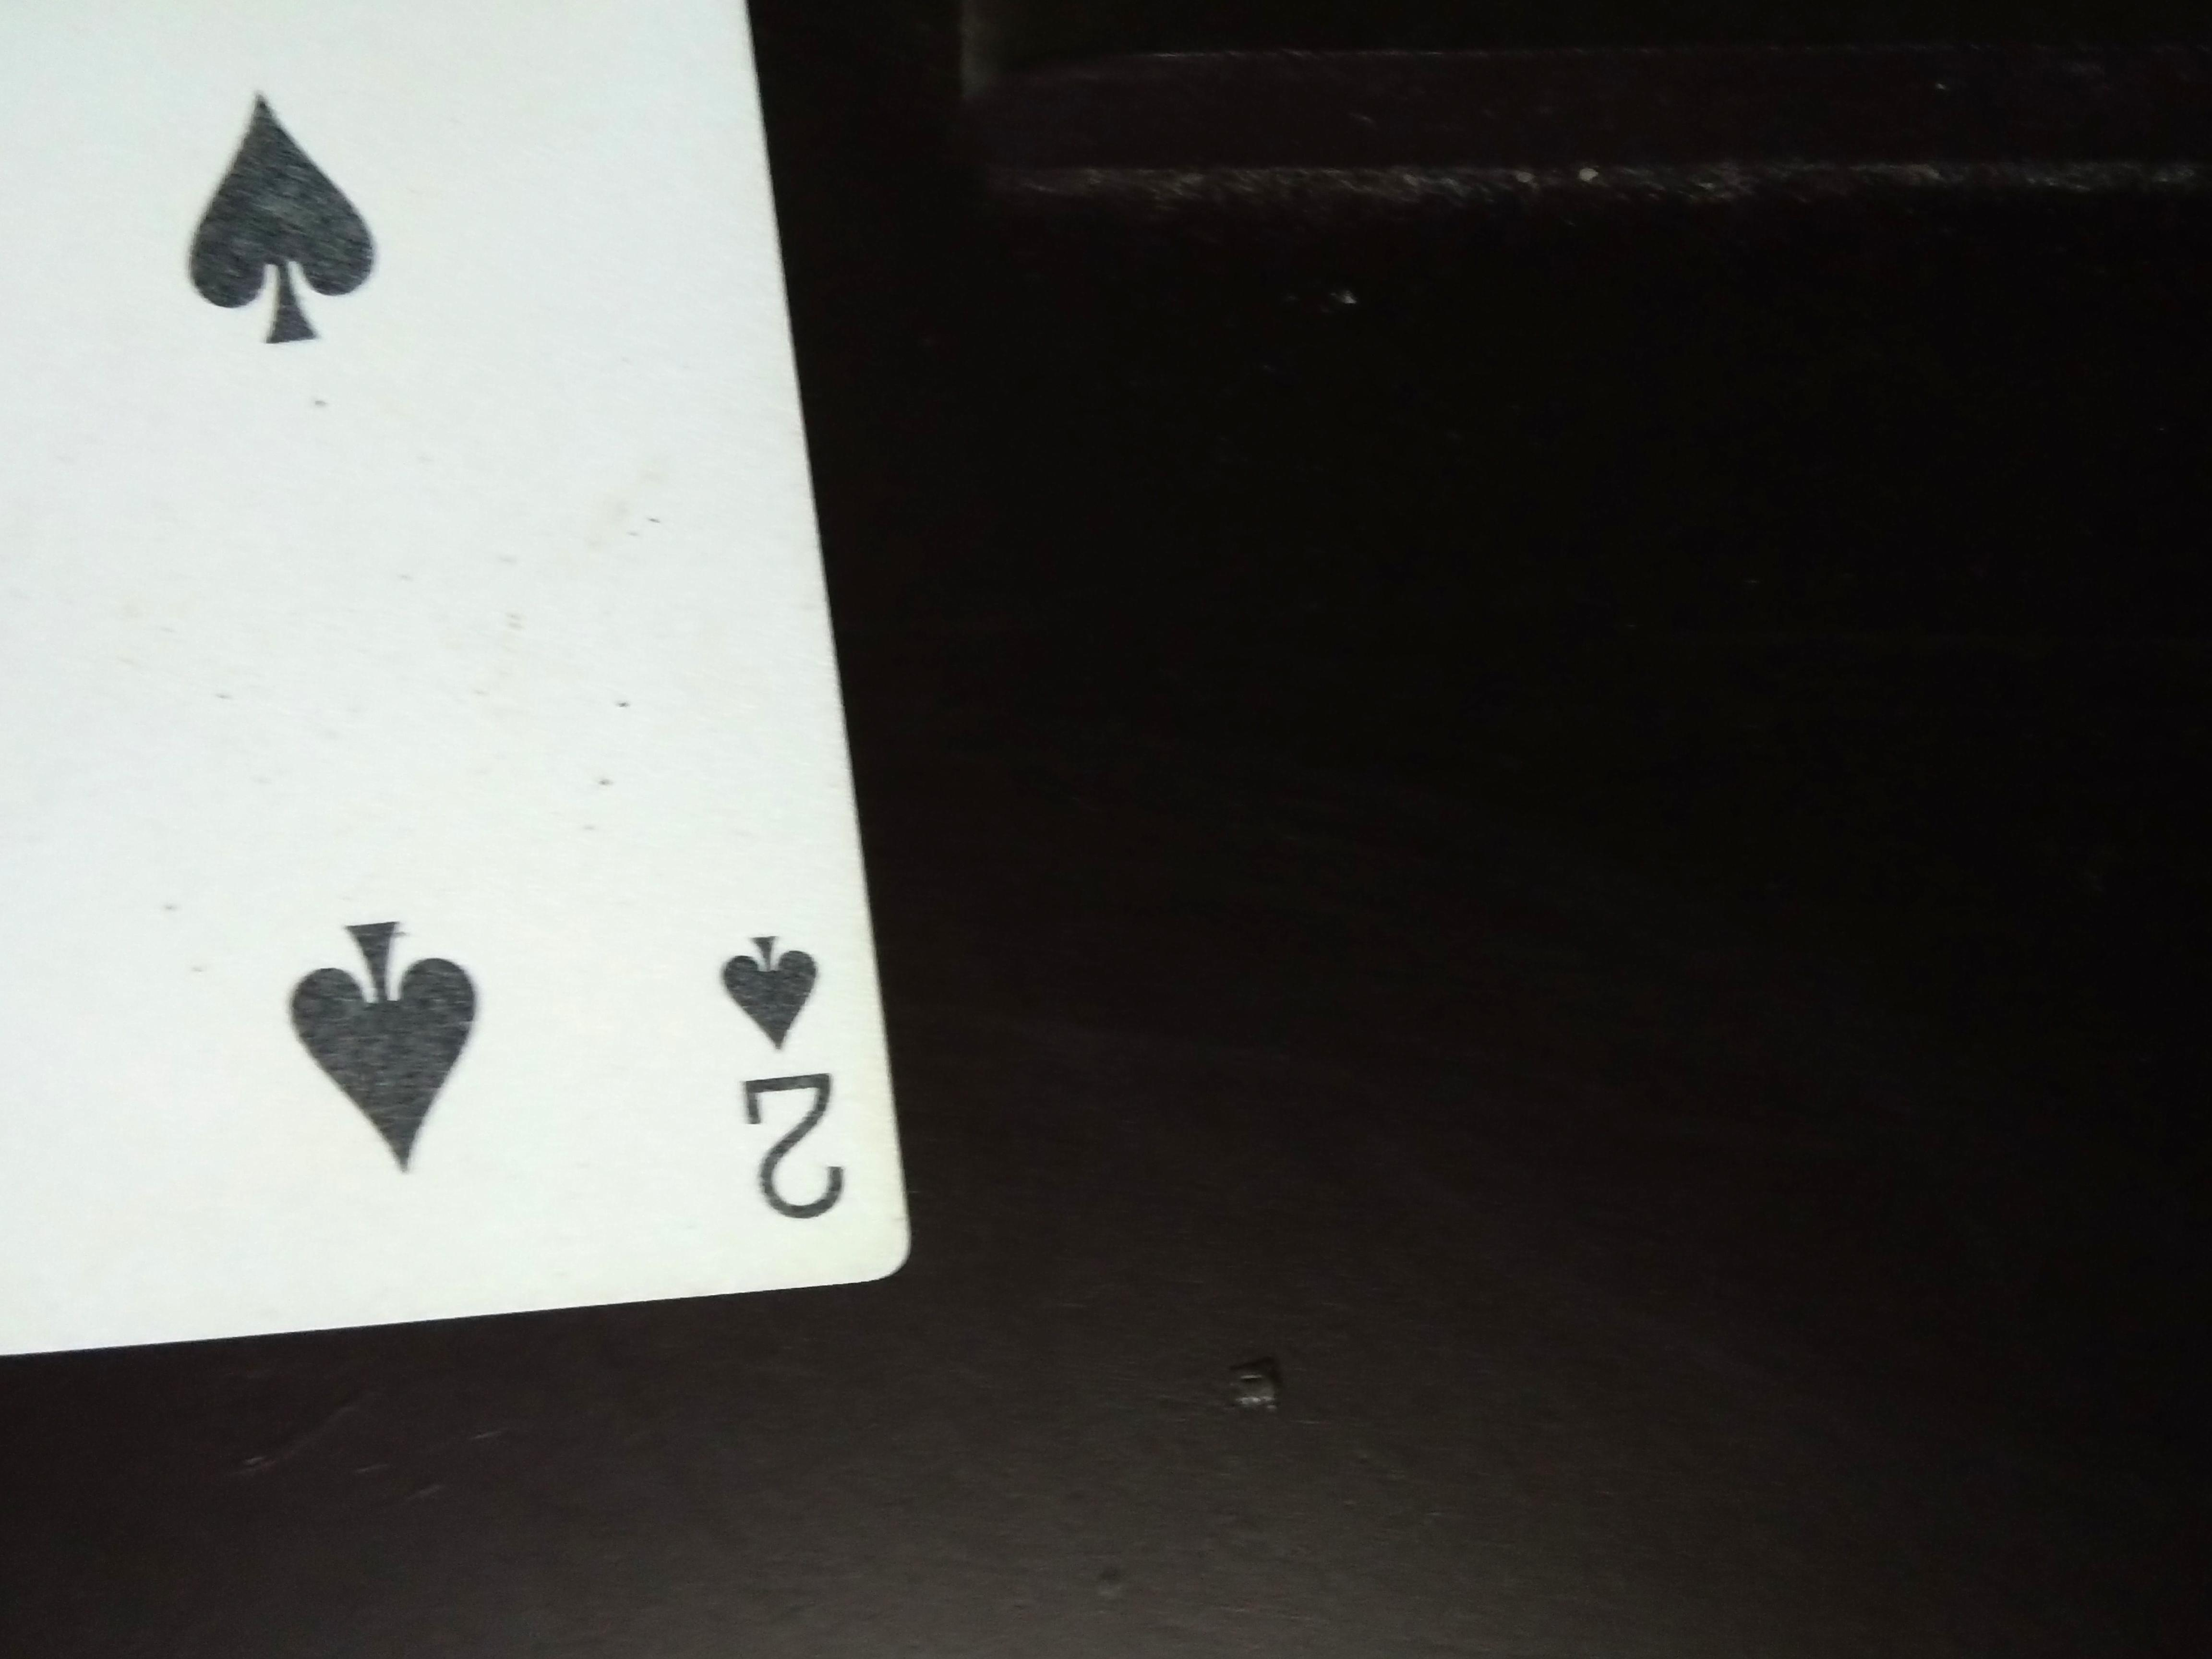2S: (643, 911, 921, 1249)
